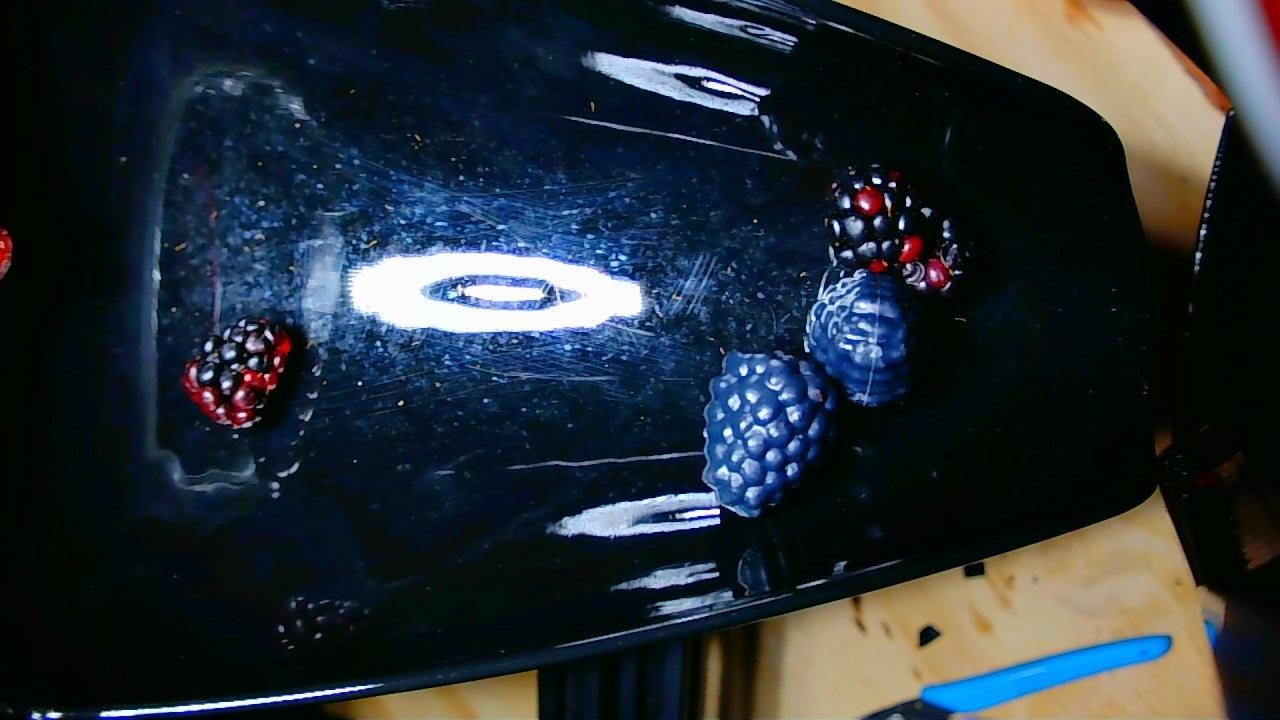berry: (703, 351, 835, 516), (806, 270, 915, 406), (824, 165, 939, 271), (183, 317, 291, 428), (901, 219, 970, 295), (0, 227, 12, 278)
